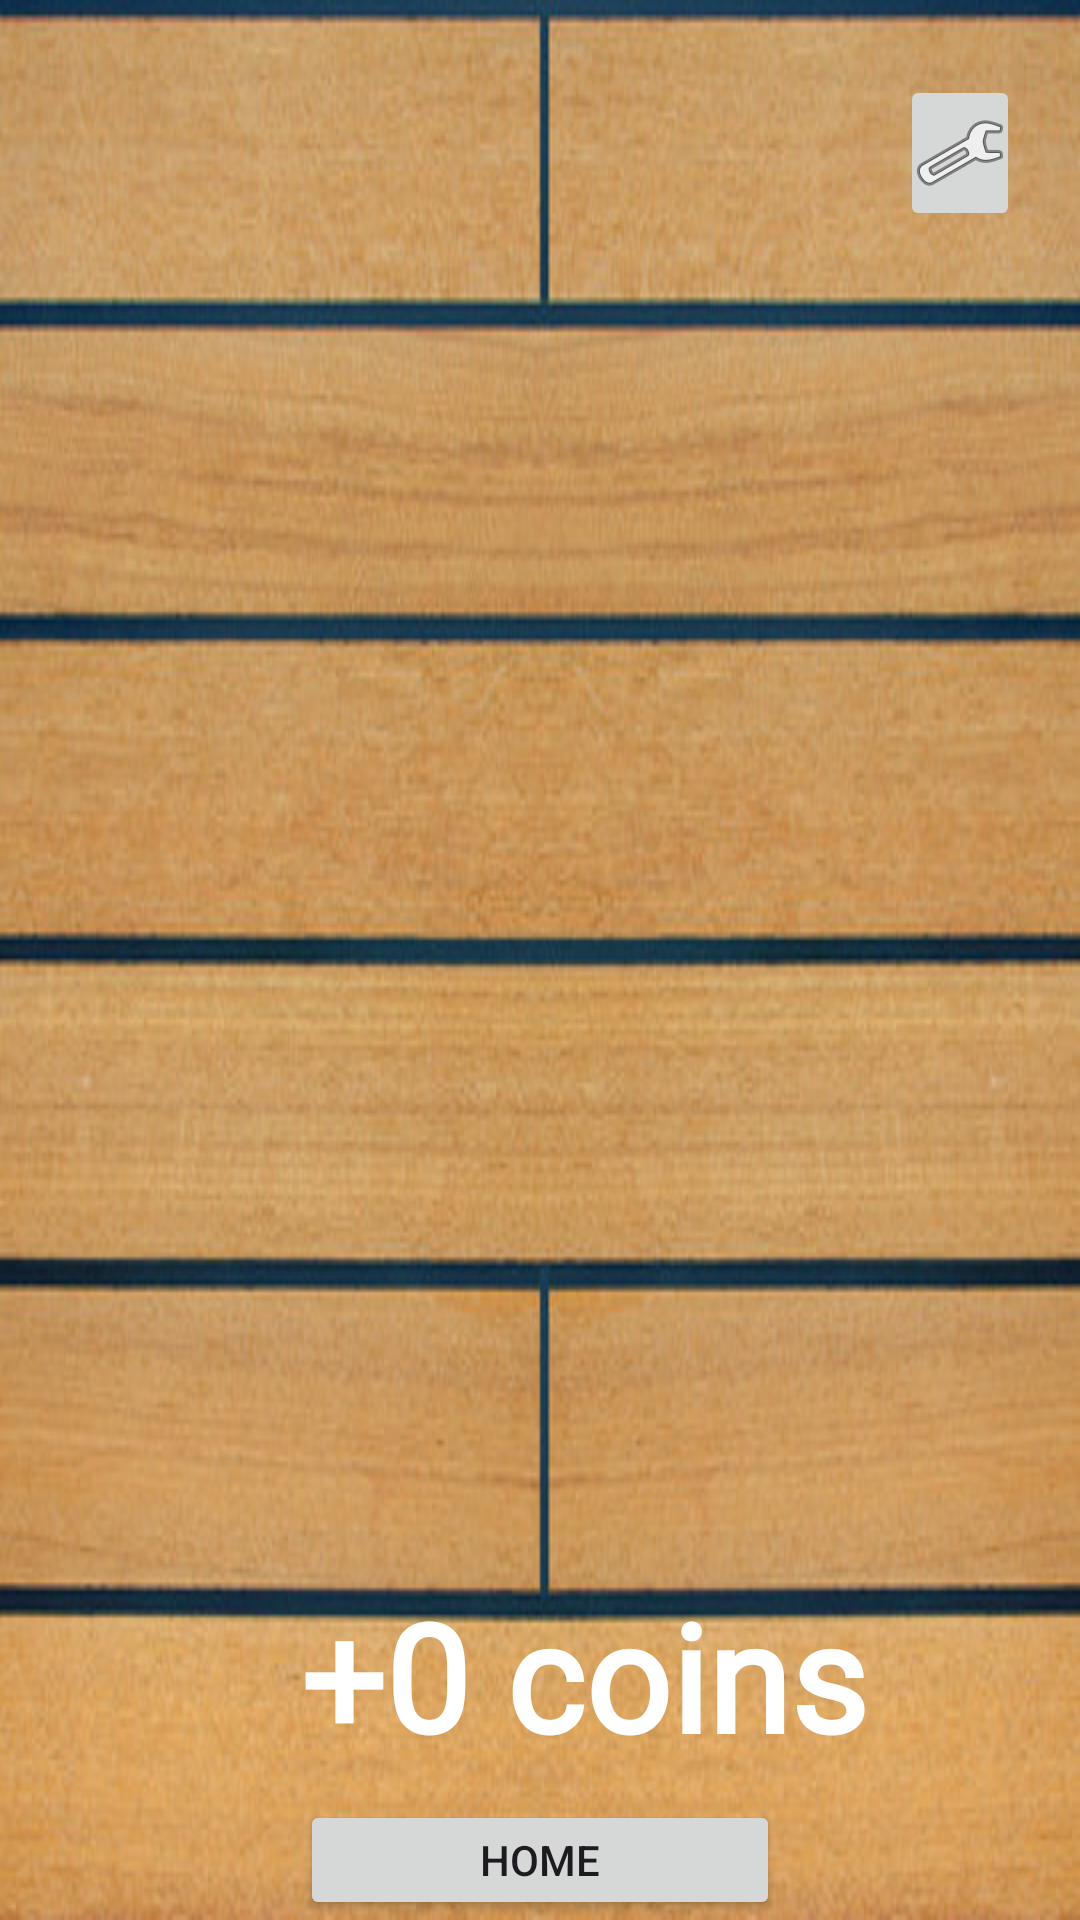

Screen size 1080*1920. Icon name, then its center in pixels as (x=x, y=y):
manage: (x=960, y=157)
